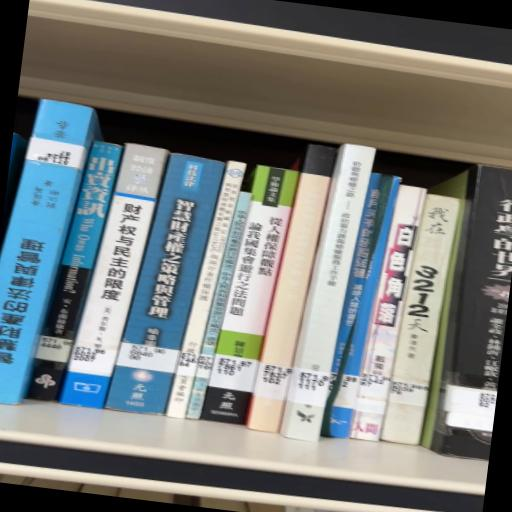reverse: (0, 100, 101, 404)
